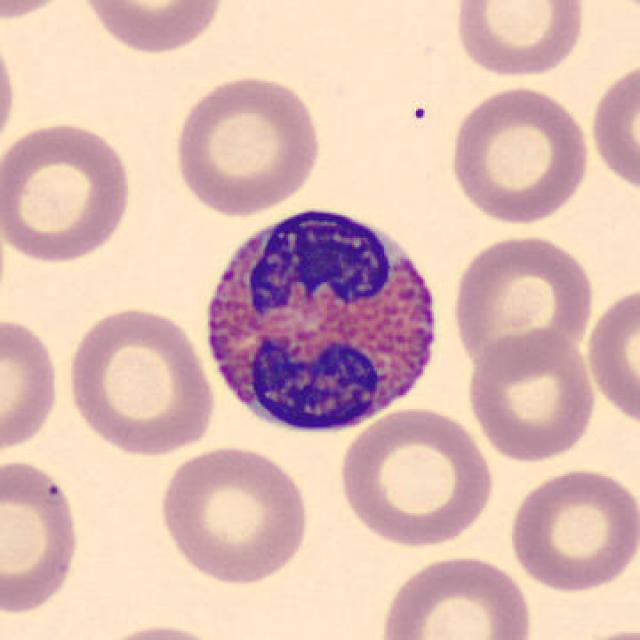Eosinophil: (192, 190, 453, 444)
RBC: (62, 302, 219, 458), (334, 404, 498, 550), (155, 441, 313, 589), (169, 70, 325, 218), (444, 81, 594, 228), (448, 229, 597, 374), (0, 116, 137, 268), (462, 326, 599, 464), (505, 464, 638, 594), (377, 552, 537, 640), (0, 453, 84, 619), (450, 0, 590, 81), (0, 312, 64, 457), (74, 0, 227, 56), (583, 280, 638, 432), (587, 55, 638, 199), (83, 620, 236, 640), (0, 17, 21, 162), (0, 0, 80, 21), (558, 622, 638, 640), (590, 0, 640, 21)
